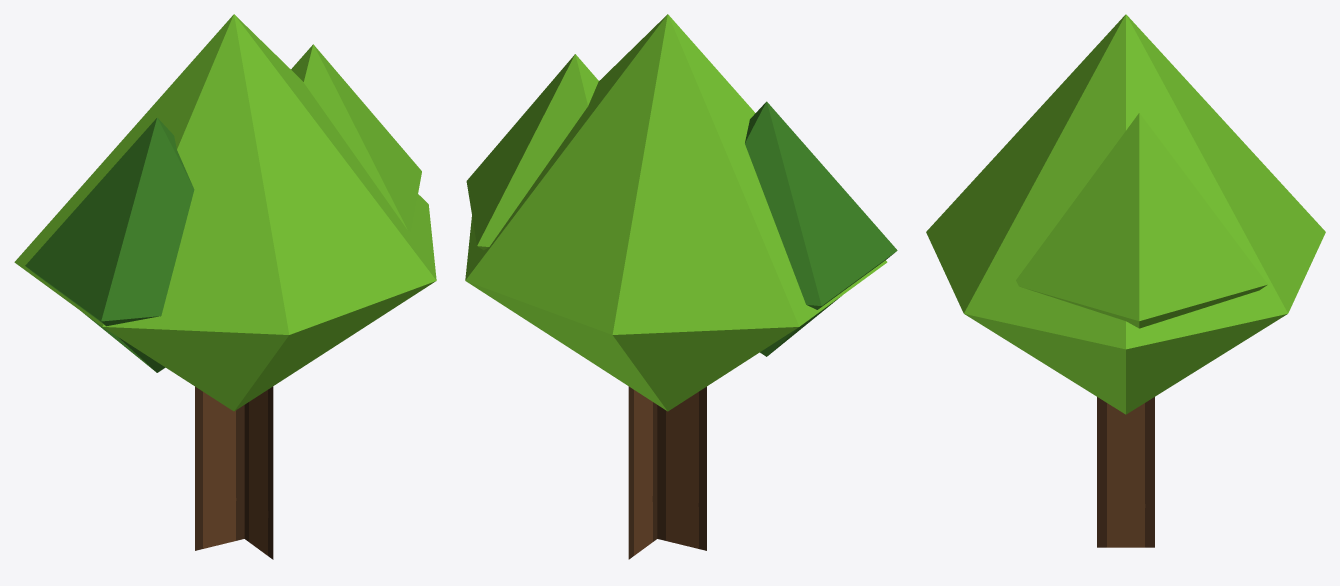
The model's file is tree.gltf.
The picture shows the model from 3 angles, left to right: view 1: azimuth 30°, elevation 25°; view 2: azimuth 150°, elevation 25°; view 3: azimuth 270°, elevation 25°; orthographic projection.
Visible parts, largest first — view 1: tree; view 2: tree; view 3: tree.
Boxes of the visible parts, x1,y1,x2,y2 form: tree: (14, 14, 436, 559); tree: (465, 14, 897, 559); tree: (926, 14, 1325, 547).
Bounding box in the file's own units: 3.08 × 4.23 × 2.81.
Materials: 1 (1 with a texture image).
